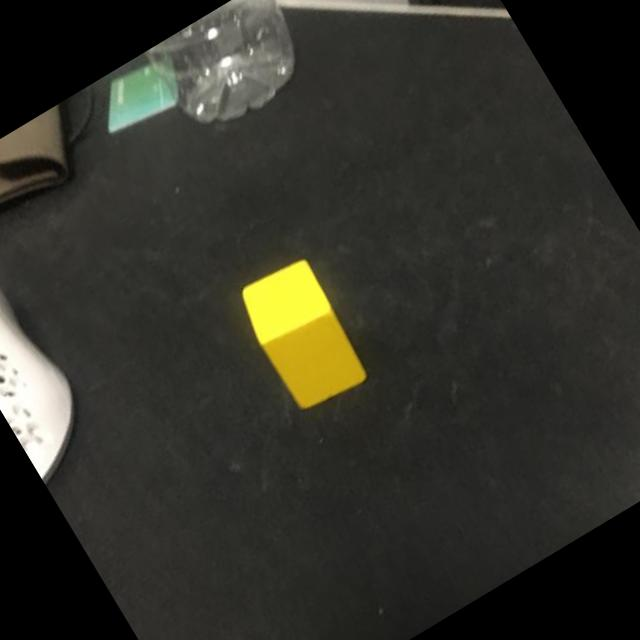yellow: (230, 252, 376, 418)
